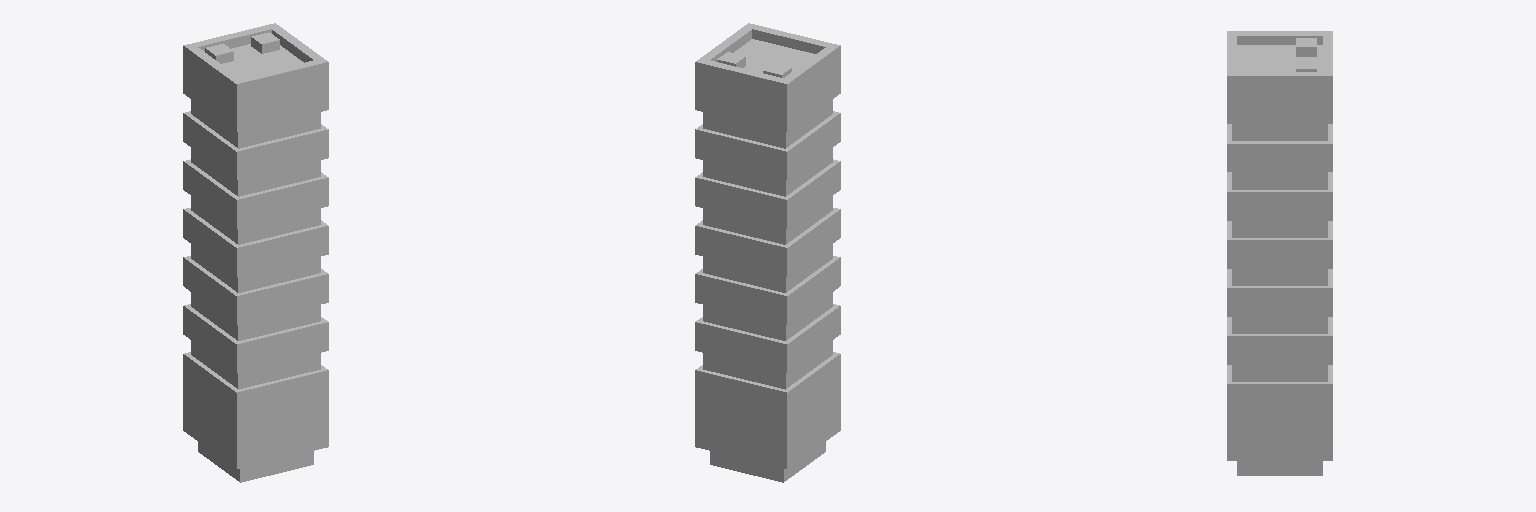
The model's file is low_buildingN.obj.
3 views of the same model, side by side, from view 1: azimuth 30°, elevation 25°; view 2: azimuth 150°, elevation 25°; view 3: azimuth 270°, elevation 25° (orthographic).
Visible parts, largest first — view 1: low_buildingN; view 2: low_buildingN; view 3: low_buildingN.
Boxes of the visible parts, box(x1,y1,x2,y2) form: low_buildingN: box(183, 23, 328, 482); low_buildingN: box(695, 23, 840, 482); low_buildingN: box(1227, 31, 1332, 475).
Size of the model in its own units: 0.5 by 2.1 by 0.5.